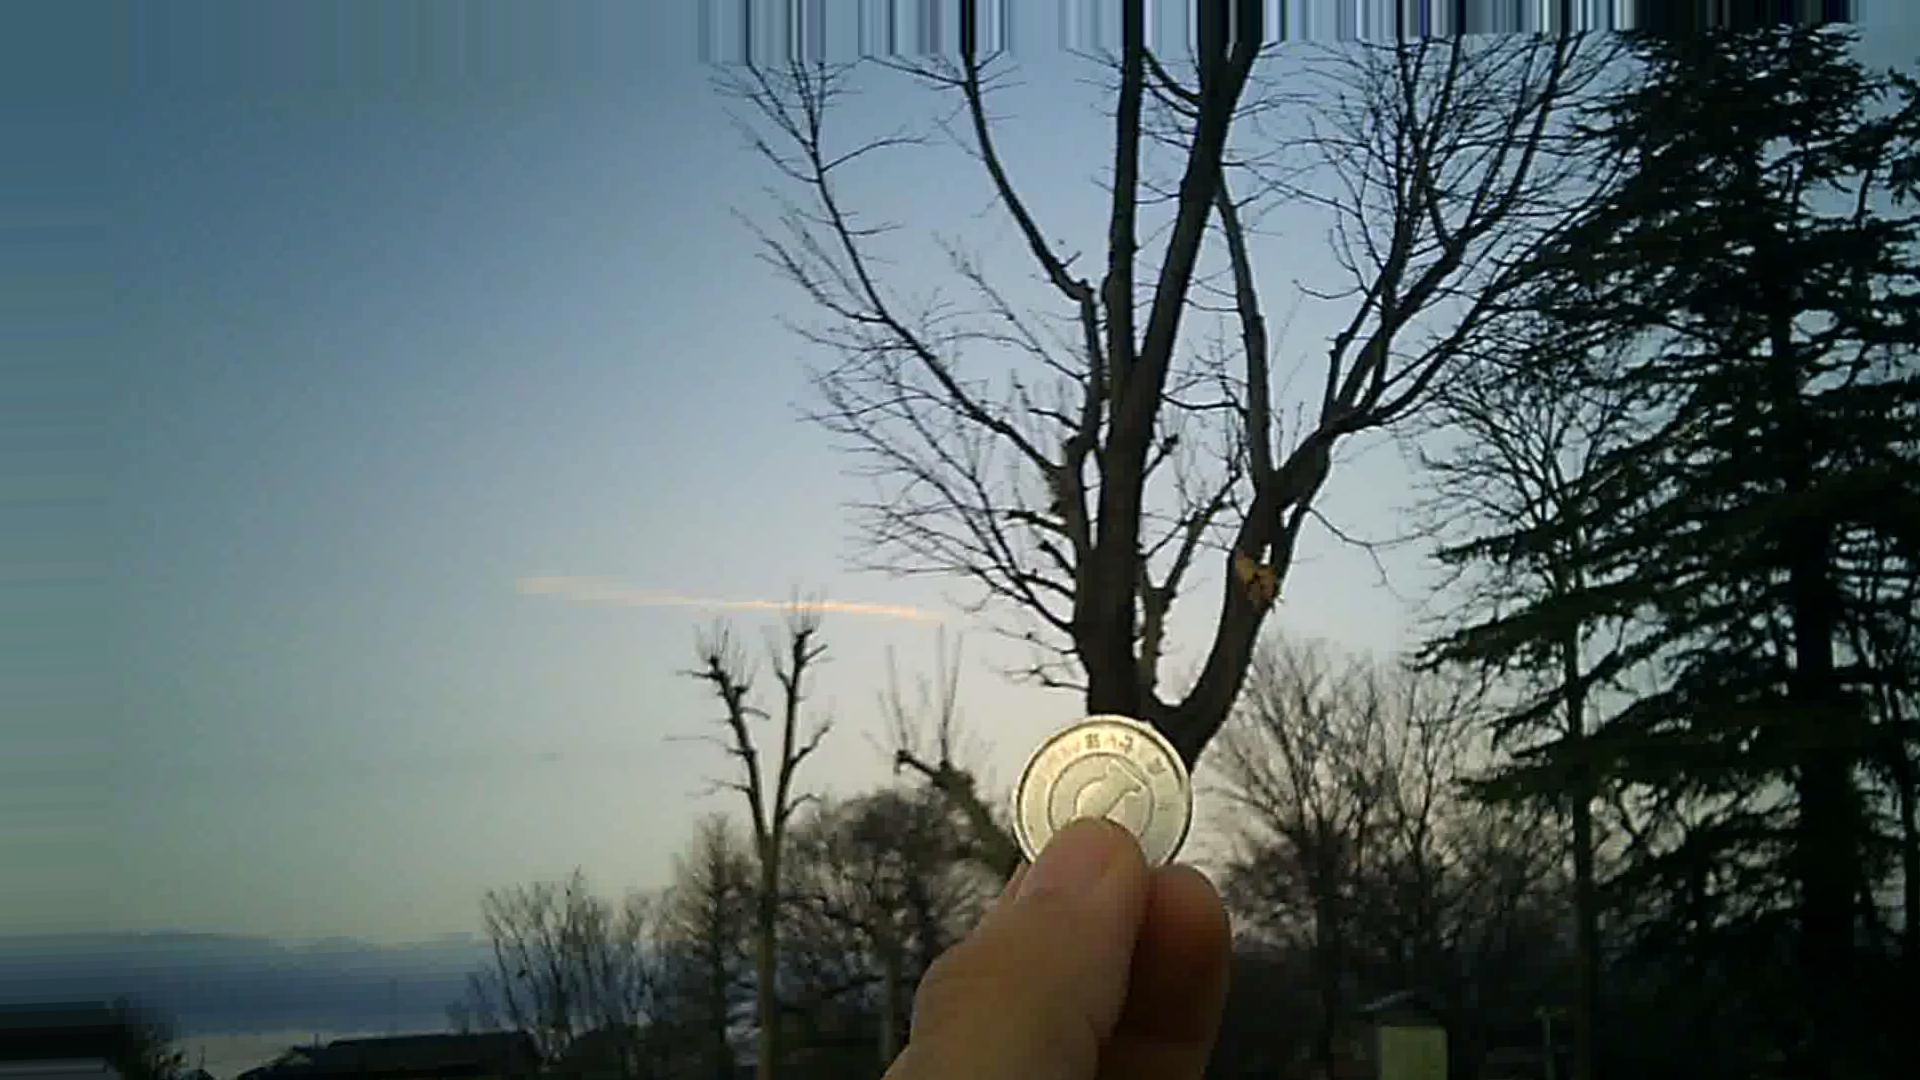1 Yen: (996, 702, 1228, 903)
